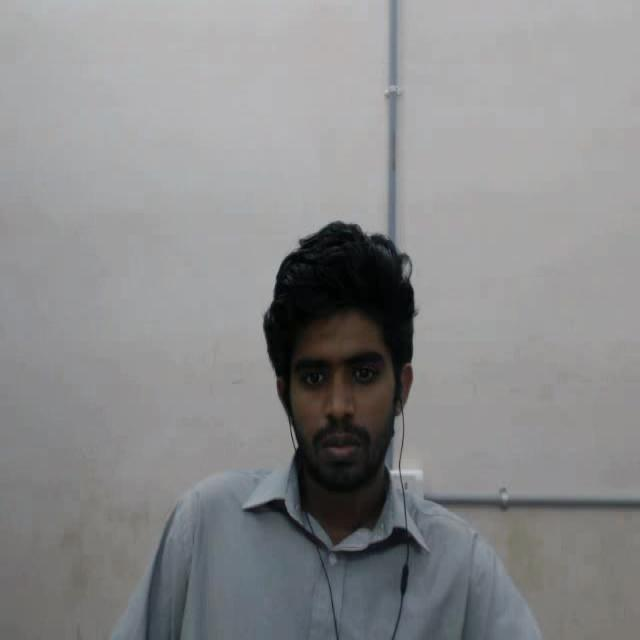Engaged: (251, 190, 437, 544)
